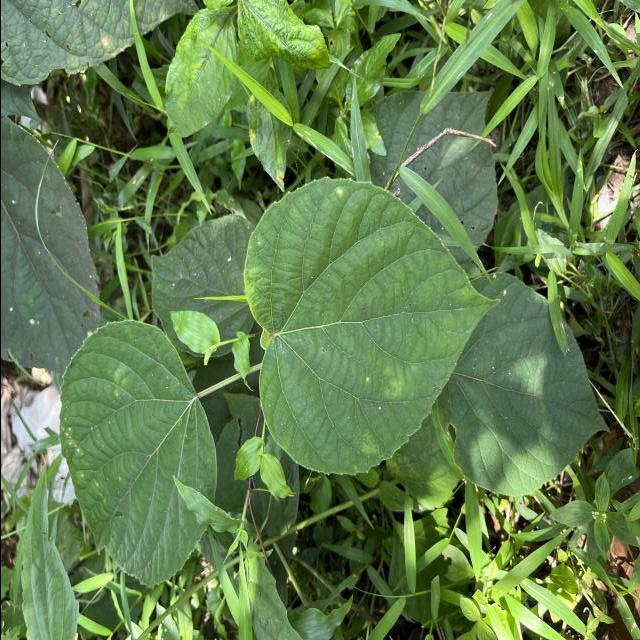Clerodendrum infortunatum: (241, 170, 502, 477), (55, 318, 219, 590), (432, 269, 612, 498)
